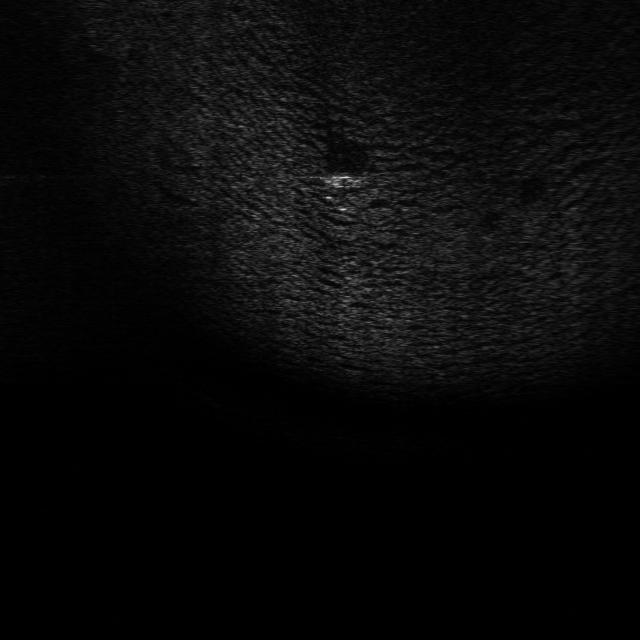plane: (324, 172, 364, 192)
